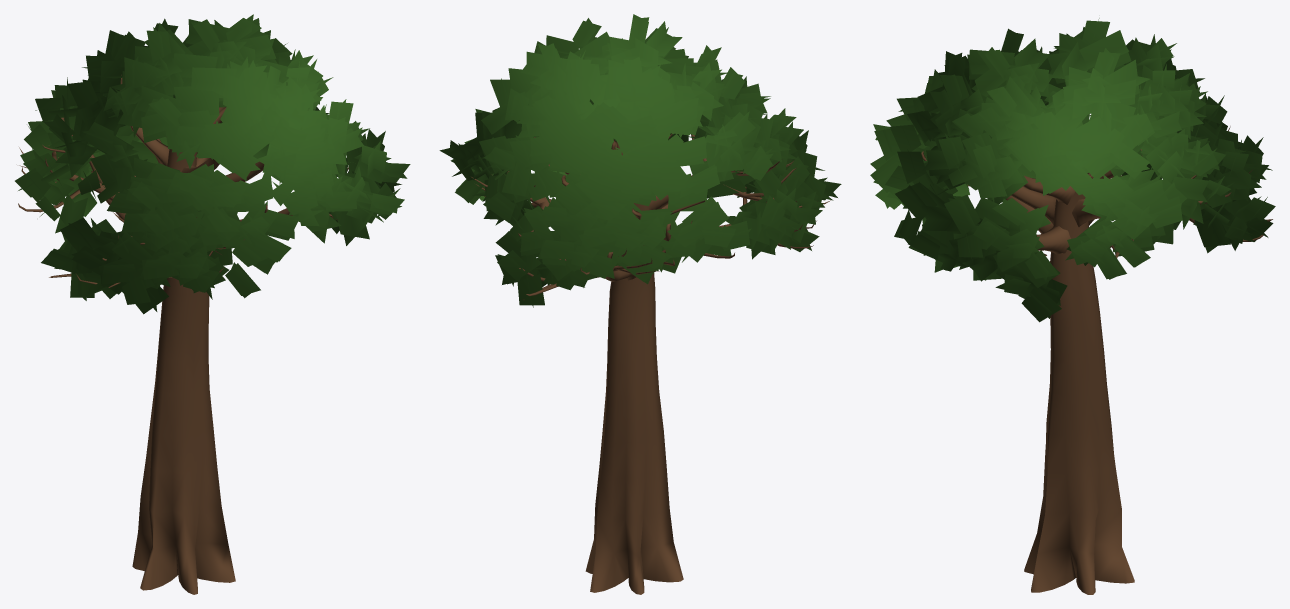
File: SM_tree_jungle_02.fbx
3 views of the same model, side by side, from view 1: azimuth 30°, elevation 25°; view 2: azimuth 150°, elevation 25°; view 3: azimuth 270°, elevation 25° (orthographic). The views are drawn at different scales.
Parts seen in each view (by area): view 1: tree023; view 2: tree023; view 3: tree023.
Boxes of the visible parts, left/top/right/bottom form: tree023: left=15, top=14, right=410, bottom=594; tree023: left=439, top=14, right=841, bottom=594; tree023: left=870, top=18, right=1275, bottom=594.
Size of the model in its own units: 232 by 341 by 228.
